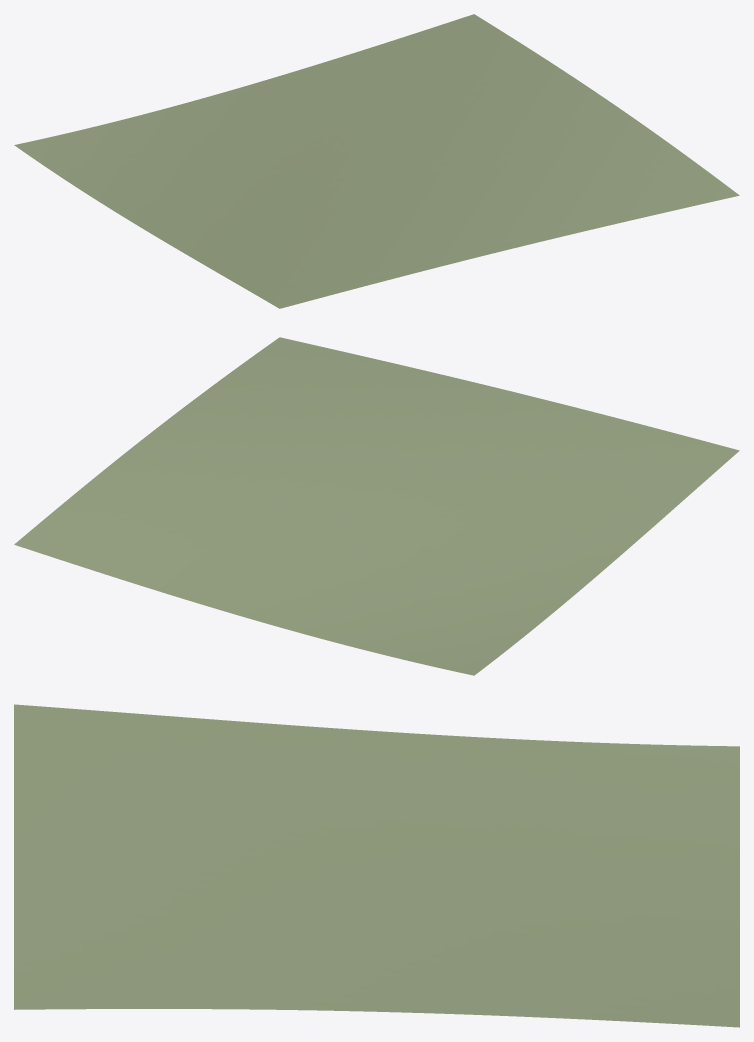
File: alpine-1-5.glb
3 renders of one model, top to bottom at view 1: azimuth 30°, elevation 25°; view 2: azimuth 150°, elevation 25°; view 3: azimuth 270°, elevation 25°, orthographic. The views are drawn at different scales.
Parts seen in each view (by area): view 1: alpine-1-5; view 2: alpine-1-5; view 3: alpine-1-5.
Part boxes in pixels (x1,y1,x2,y2): alpine-1-5: (14,14,739,308); alpine-1-5: (14,337,739,675); alpine-1-5: (14,704,739,1027).
Size of the model in its own units: 256 by 18.81 by 256.
